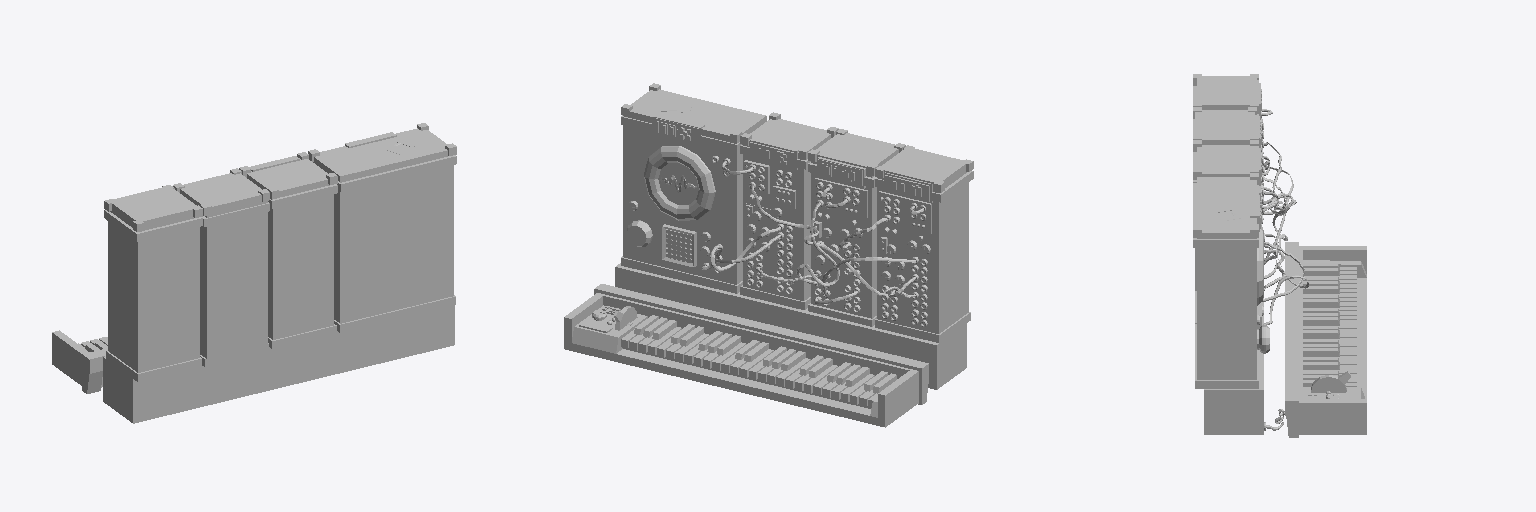
File: synth.obj
3 views of the same model, side by side, from view 1: azimuth 30°, elevation 25°; view 2: azimuth 150°, elevation 25°; view 3: azimuth 270°, elevation 25° (orthographic).
Visible parts, largest first — view 1: model.001_model.010; view 2: model.001_model.010; view 3: model.001_model.010.
Boxes of the visible parts, box(x1,y1,x2,y2) form: model.001_model.010: box(52, 123, 456, 423); model.001_model.010: box(564, 83, 973, 427); model.001_model.010: box(1193, 74, 1366, 437).
Bounding box in the file's own units: 2.14 × 1.28 × 0.98.